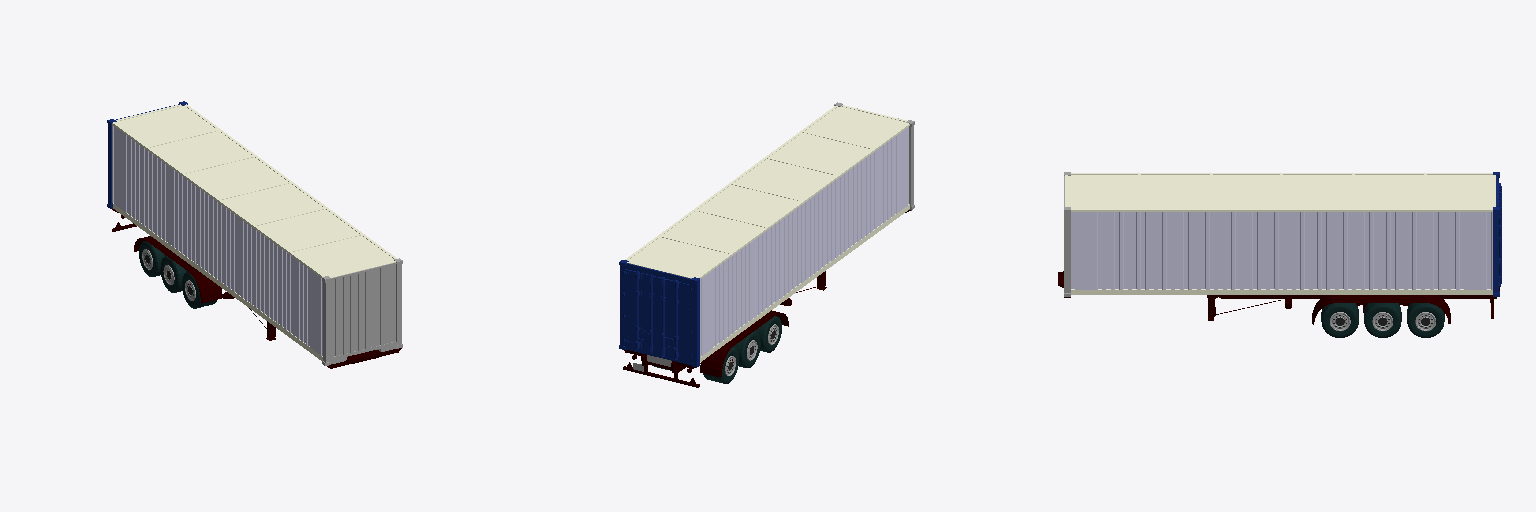
File: tow_tractor_w.obj
3 renders of one model, left to right at view 1: azimuth 30°, elevation 25°; view 2: azimuth 150°, elevation 25°; view 3: azimuth 270°, elevation 25°, orthographic.
Visible parts, largest first — view 1: P&OLAT03; view 2: P&OLAT03; view 3: P&OLAT03, Object24, Object25, Object20.
Boxes of the visible parts, box(x1,y1,x2,y2) form: P&OLAT03: box(107, 101, 402, 368); P&OLAT03: box(619, 102, 914, 387); P&OLAT03: box(1058, 172, 1501, 324); Object24: box(1364, 303, 1401, 337); Object25: box(1321, 303, 1358, 337); Object20: box(1407, 303, 1444, 337).
Bounding box in the file's own units: 2.55 × 4.08 × 12.65.